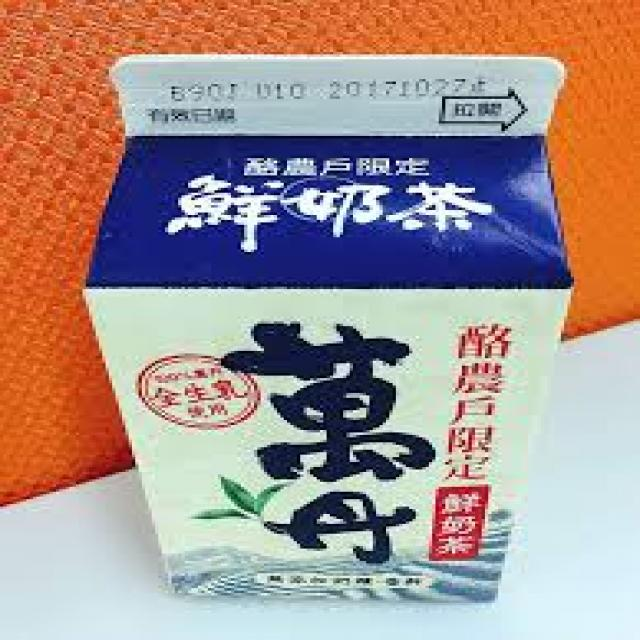non_white_jug: (69, 42, 596, 612)
